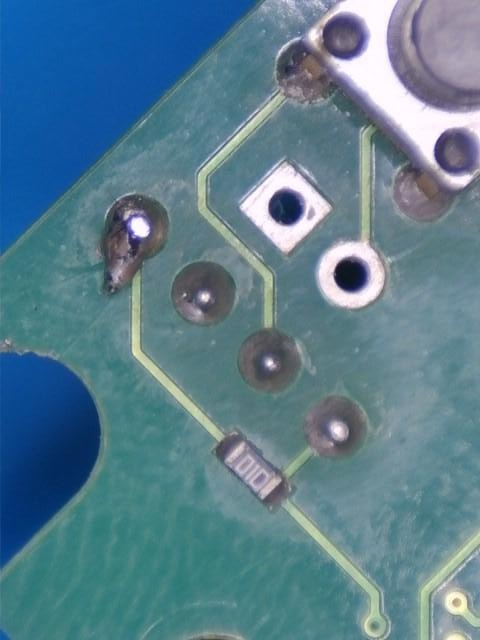pcb_defect: (98, 193, 169, 297)
